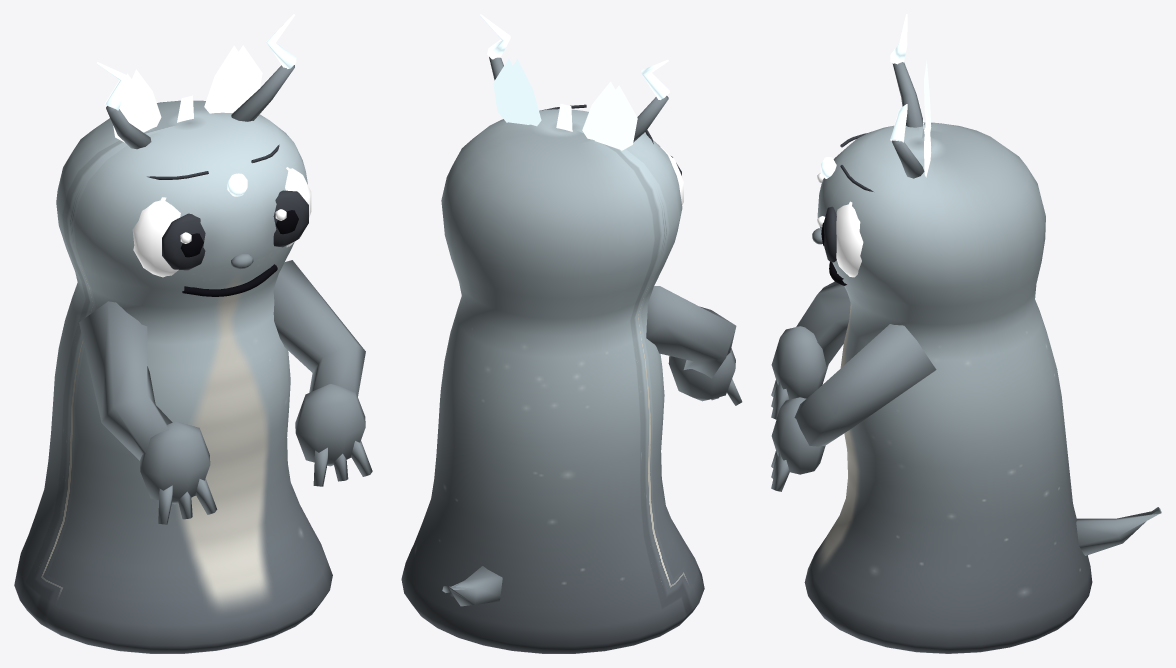
The model's file is planeadora_pixar.glb.
The picture shows the model from 3 angles, left to right: view 1: azimuth 30°, elevation 25°; view 2: azimuth 150°, elevation 25°; view 3: azimuth 270°, elevation 25°; orthographic projection. The views are drawn at different scales.
Parts seen in each view (by area): view 1: planeadora_cuerpo; view 2: planeadora_cuerpo; view 3: planeadora_cuerpo.
Boxes of the visible parts, <box> form: planeadora_cuerpo: <box>14,14,372,653</box>; planeadora_cuerpo: <box>401,14,742,653</box>; planeadora_cuerpo: <box>771,14,1161,653</box>.
Size of the model in its own units: 0.2973 by 0.58 by 0.3845.
Materials: 5 (1 with a texture image).
